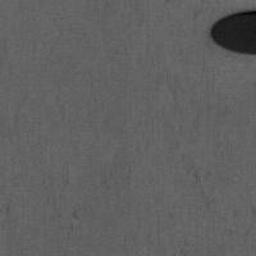Punching: (210, 10, 256, 55)
